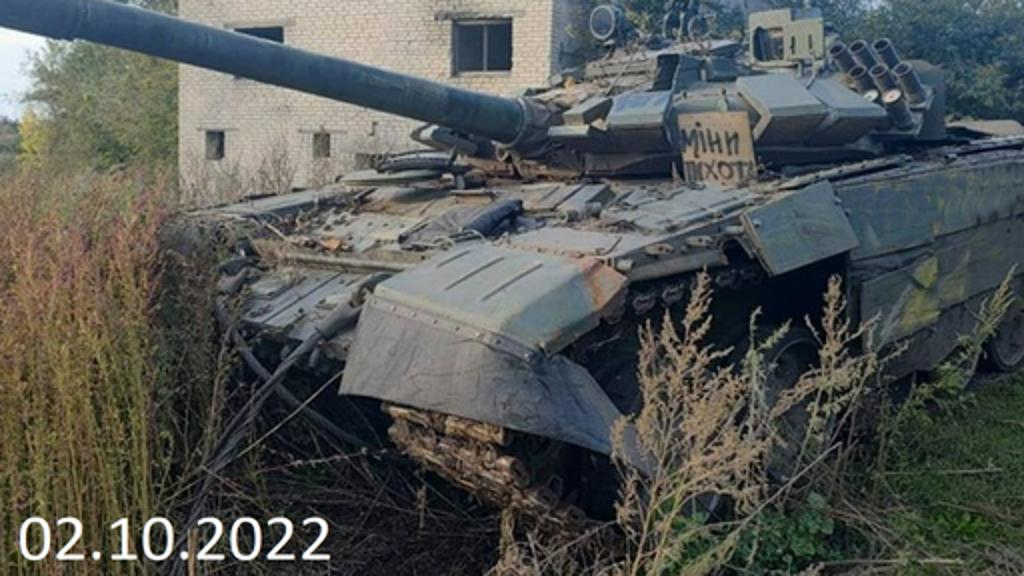TANK: (0, 0, 1022, 538)
